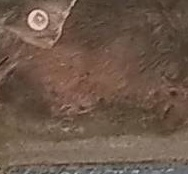text: (19, 1, 60, 39)
